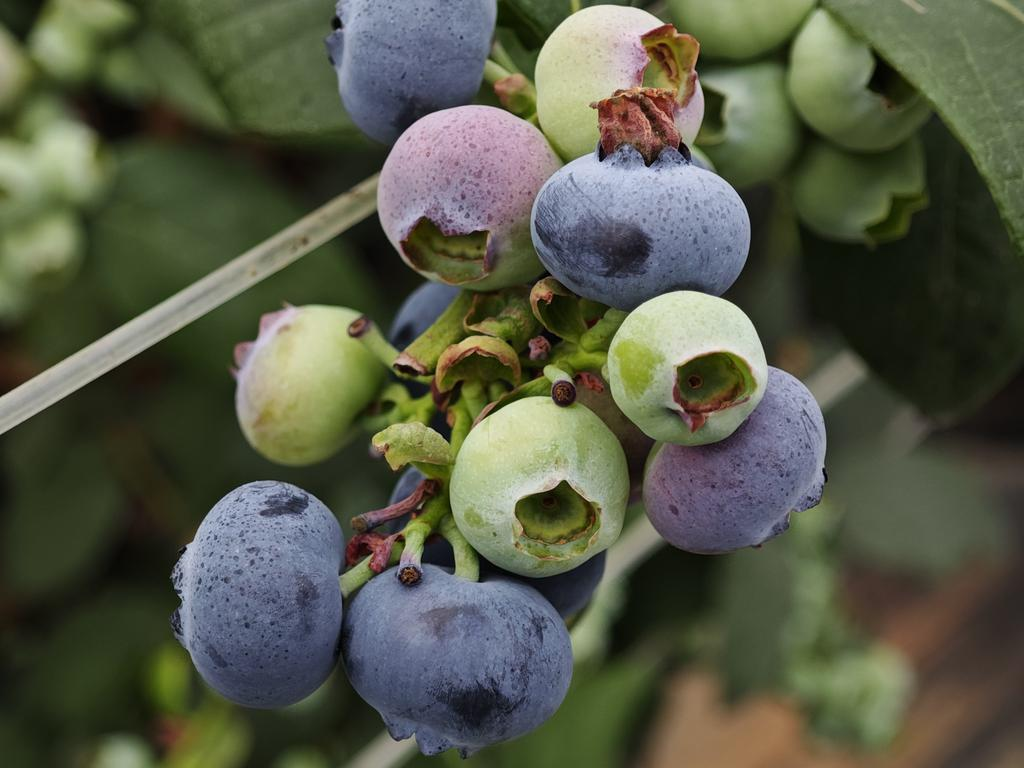RipeBlueBerry: (343, 559, 580, 762), (165, 475, 345, 713), (530, 125, 755, 308)
Semi-RipeBlueBerry: (642, 366, 834, 560), (375, 100, 554, 296)
UnripeBlueBerry: (447, 389, 632, 581), (607, 285, 770, 448)
